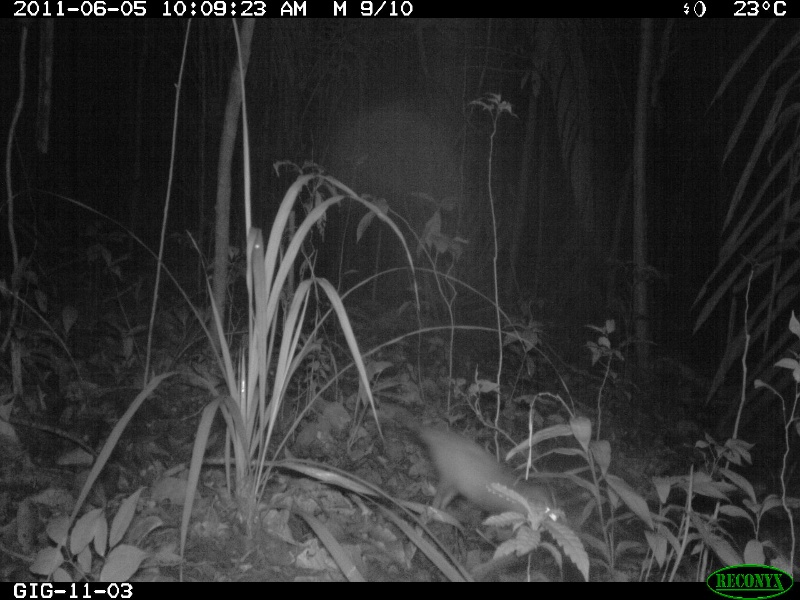opossum: (393, 411, 566, 542)
